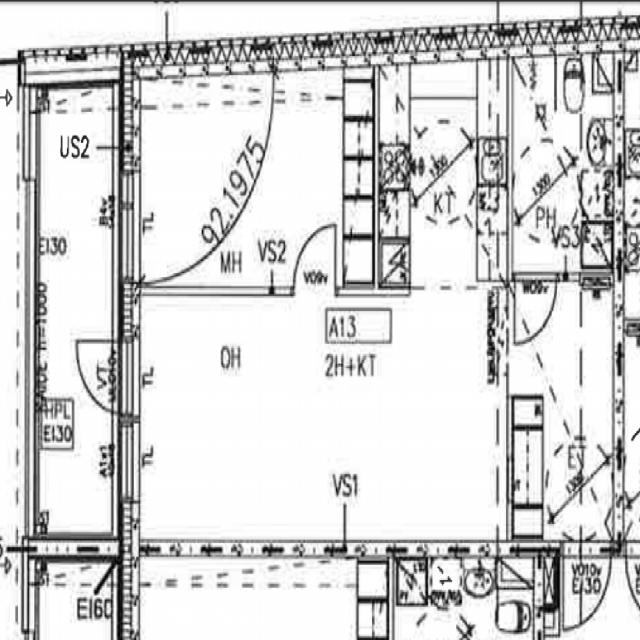door: (72, 340, 140, 412), (563, 540, 610, 629), (515, 272, 556, 344), (294, 224, 335, 295)
